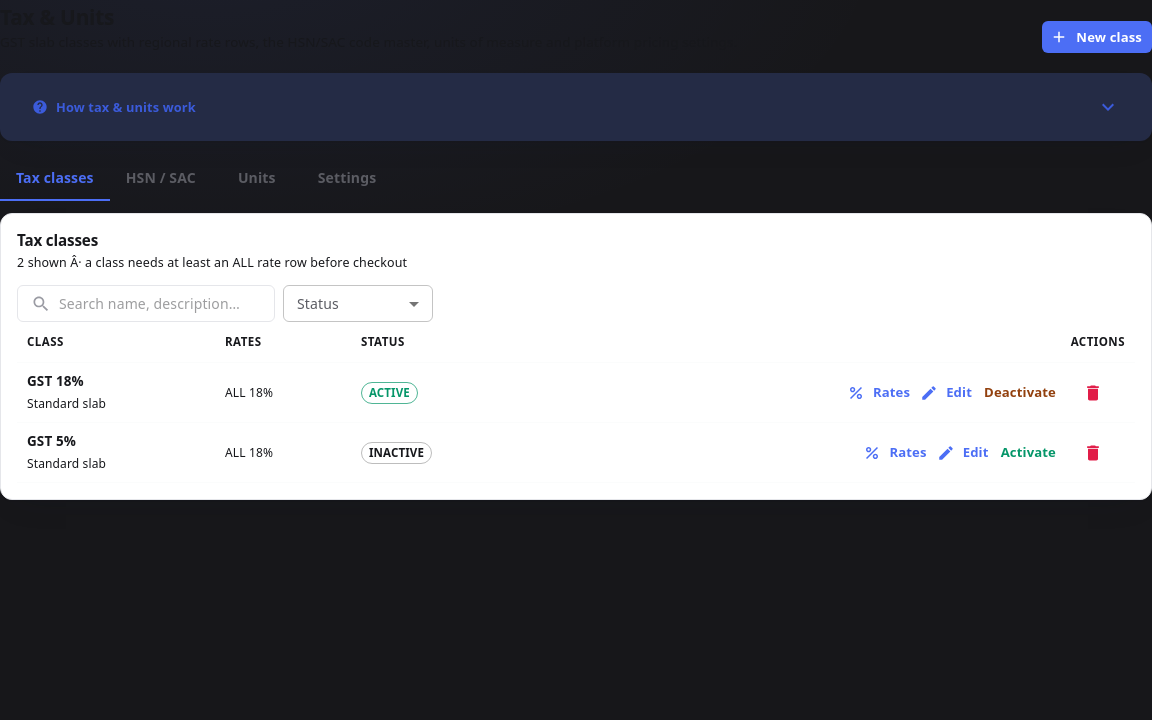
Scenario: TaxAdminView (admin) › opens the class create dialog from New class
This screenshot has width=1152, height=720.
Click the button "New class": x=1097, y=38 top-left (1042, 22), bottom-right (1151, 54)
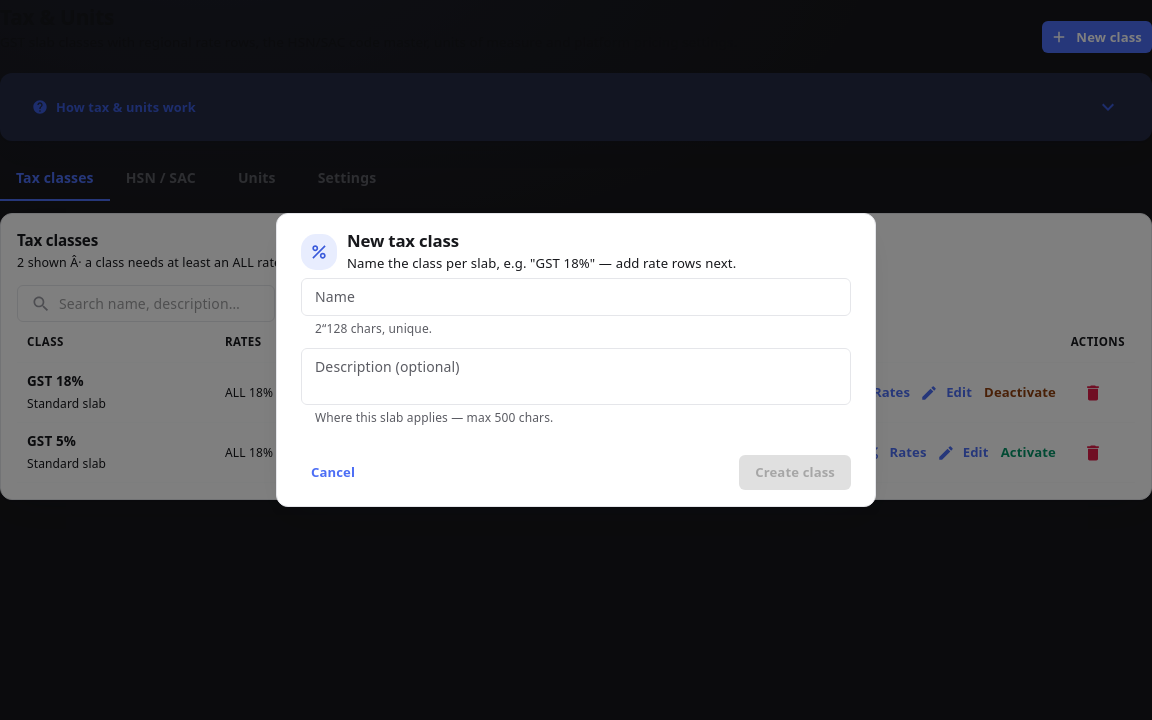
Now the heading "New tax class" is shown, box top-left (347, 230), bottom-right (459, 252)
